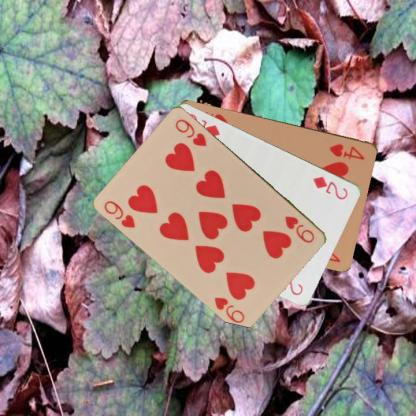2d: (310, 173, 350, 201)
4h: (326, 140, 366, 162)
9h: (102, 198, 137, 230), (282, 214, 316, 245)
